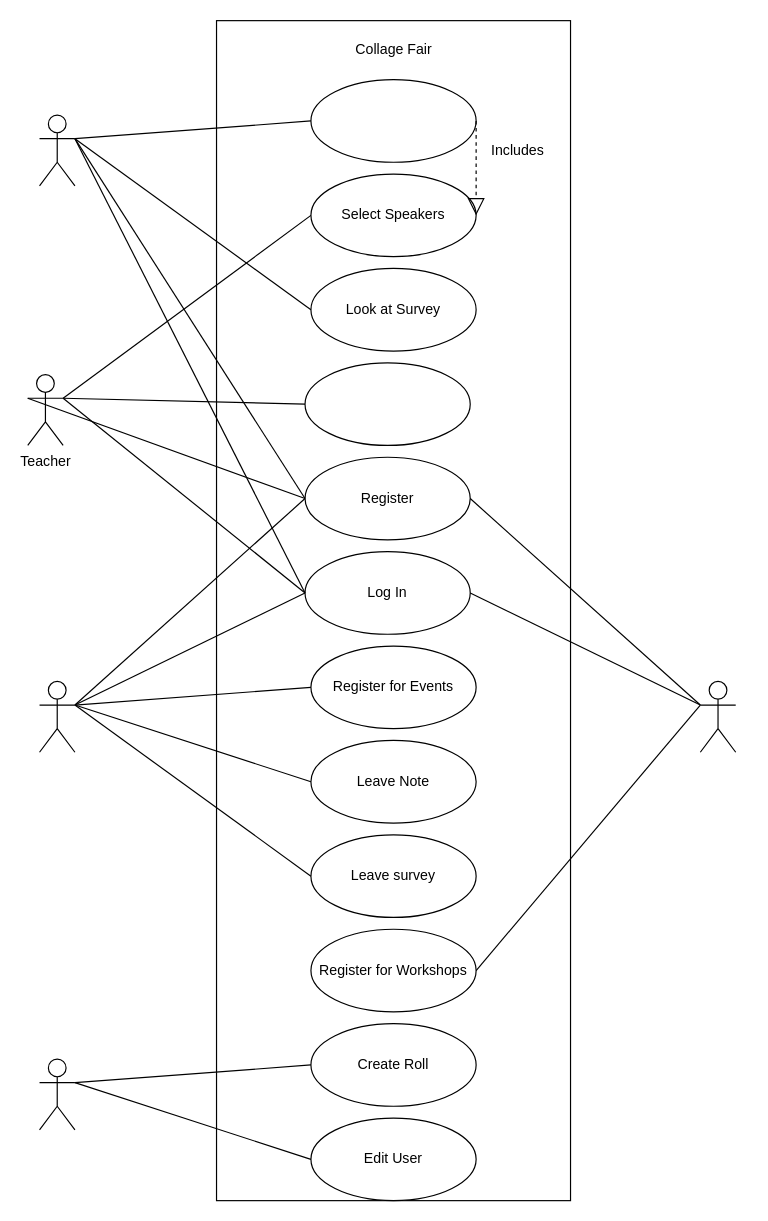
Image size: 768x1221. Some labels were removed from this diagram. Here are the shapes that lost their labels. From the top down, the box of each, then its label:
(310, 78, 476, 162): Apply to speak
(38, 114, 75, 186): Speaker
(304, 362, 470, 445): Make Events
(38, 680, 75, 752): Student
(699, 680, 736, 752): Volunteer
(38, 1058, 75, 1130): Admin
